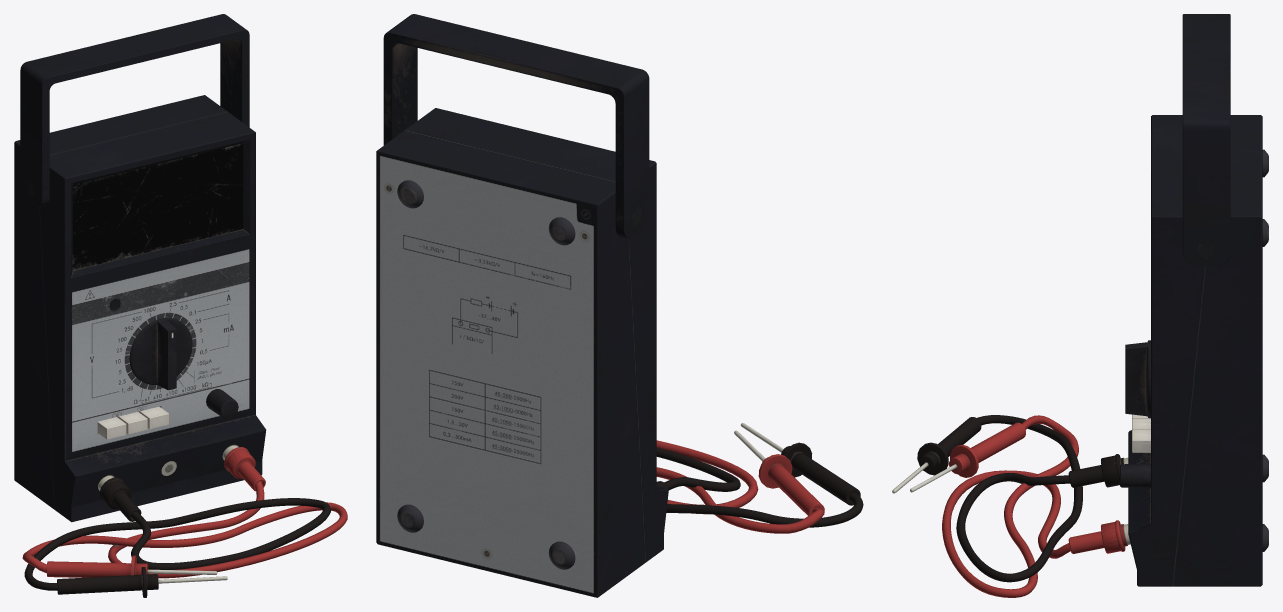
Rendered from tester.glb.
3 views of the same model, side by side, from view 1: azimuth 30°, elevation 25°; view 2: azimuth 150°, elevation 25°; view 3: azimuth 270°, elevation 25° (orthographic). The views are drawn at different scales.
Parts seen in each view (by area): view 1: body, cables, handle, dial, buttons, knob; view 2: body, handle, cables; view 3: body, cables, handle, dial, knob, buttons.
Part boxes in pixels (x1,y1,x2,y2): body: [14, 95, 266, 522]; cables: [22, 445, 347, 597]; handle: [20, 14, 249, 207]; dial: [129, 318, 192, 390]; buttons: [97, 406, 168, 439]; knob: [206, 389, 238, 418]; body: [376, 108, 668, 597]; handle: [383, 14, 649, 238]; cables: [656, 423, 863, 533]; body: [1128, 115, 1268, 586]; cables: [892, 415, 1130, 597]; handle: [1182, 14, 1230, 266]; dial: [1125, 340, 1150, 418]; knob: [1120, 463, 1150, 487]; buttons: [1132, 414, 1150, 452].
Size of the model in its own units: 0.216 by 0.2786 by 0.2026.
2 materials, 2 textured.
